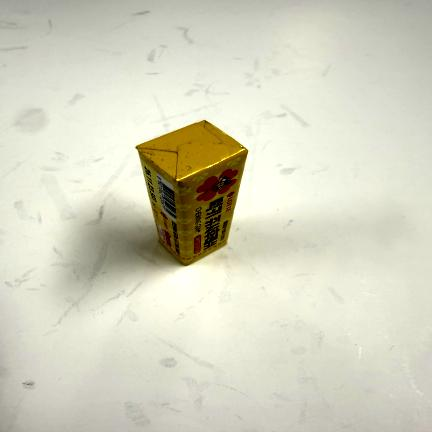gum_yellow: (137, 118, 248, 267)
